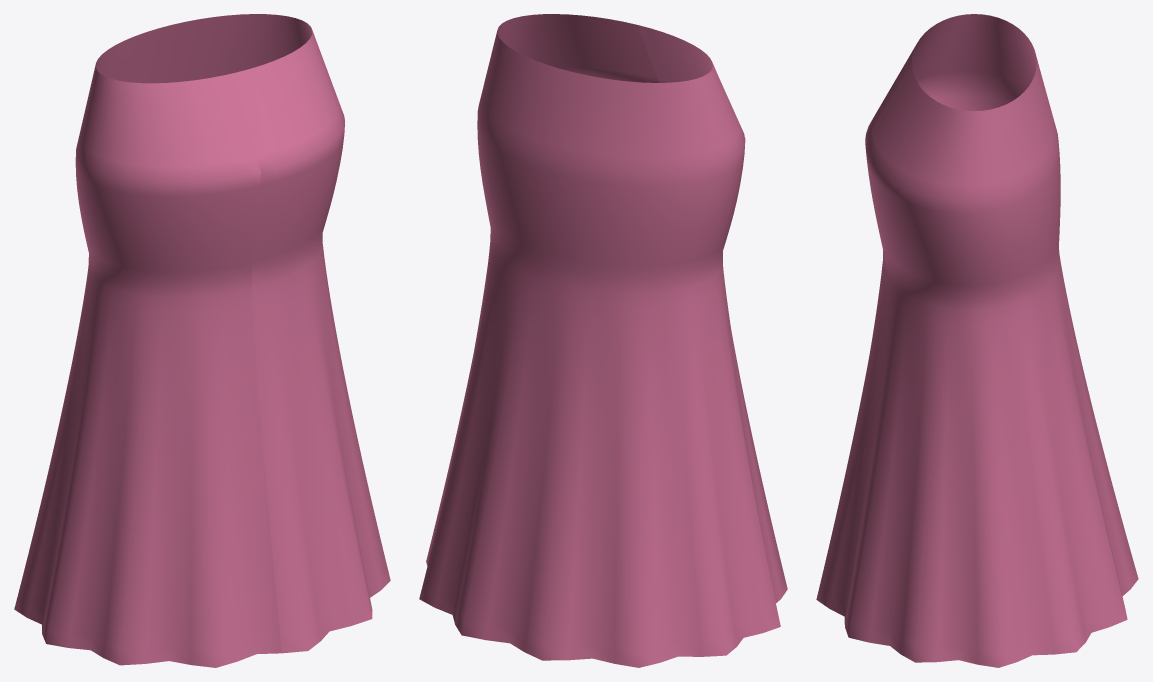
File: dress_slip.glb
3 renders of one model, left to right at view 1: azimuth 30°, elevation 25°; view 2: azimuth 150°, elevation 25°; view 3: azimuth 270°, elevation 25°, orthographic. The views are drawn at different scales.
Visible parts, largest first — view 1: Dress_Slip_Mesh; view 2: Dress_Slip_Mesh; view 3: Dress_Slip_Mesh.
Boxes of the visible parts, x1,y1,x2,y2 form: Dress_Slip_Mesh: (14, 14, 390, 667); Dress_Slip_Mesh: (419, 14, 787, 667); Dress_Slip_Mesh: (816, 14, 1138, 667).
Size of the model in its own units: 0.5949 by 0.93 by 0.5156.
